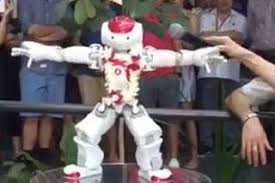nao: (8, 12, 229, 179)
